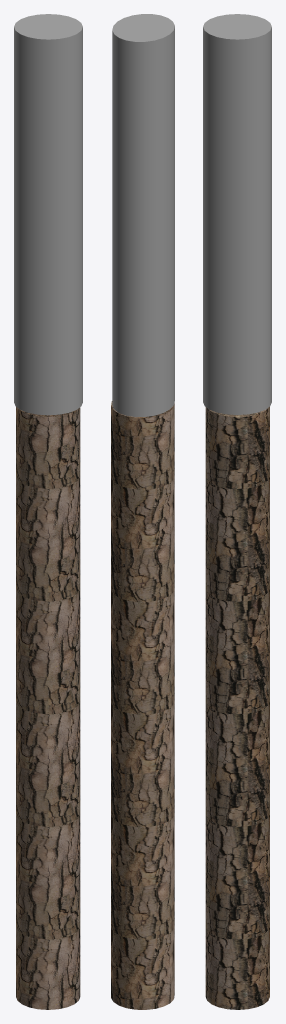
File: tree2.fbx
The picture shows the model from 3 angles, left to right: view 1: azimuth 90°, elevation 25°; view 2: azimuth 150°, elevation 25°; view 3: azimuth 270°, elevation 25°; orthographic projection.
Parts seen in each view (by area): view 1: pCylinder3; view 2: pCylinder3; view 3: pCylinder3.
Boxes of the visible parts, <box> form: pCylinder3: <box>14,14,82,1009</box>; pCylinder3: <box>111,14,174,1009</box>; pCylinder3: <box>203,14,271,1009</box>.
Size of the model in its own units: 0.7368 by 12.37 by 0.7969.
Materials: 2 (1 with a texture image).
